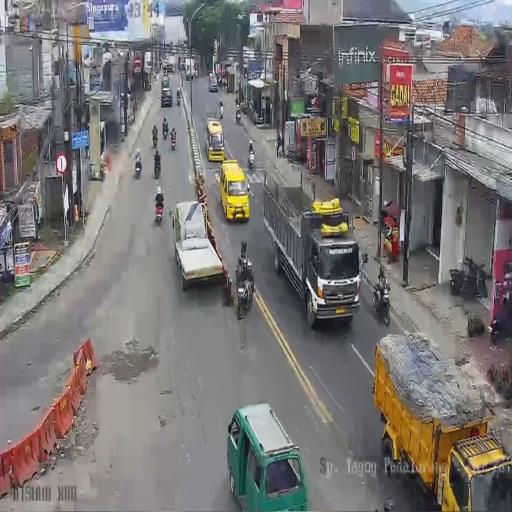car: (226, 402, 306, 510), (170, 201, 222, 290), (218, 161, 249, 223), (205, 118, 225, 162), (161, 85, 172, 107), (209, 76, 218, 92), (162, 75, 170, 89), (180, 58, 186, 70)
motorcycle: (490, 295, 512, 342), (236, 270, 254, 320), (154, 195, 164, 224), (154, 157, 161, 179), (135, 158, 142, 178), (248, 146, 254, 168), (170, 130, 176, 150), (152, 130, 158, 148), (162, 121, 168, 139), (235, 108, 241, 124), (176, 88, 181, 106), (219, 104, 223, 118)
truck: (371, 333, 508, 509), (262, 175, 358, 328), (163, 54, 176, 74), (184, 57, 195, 80), (144, 51, 153, 75)
